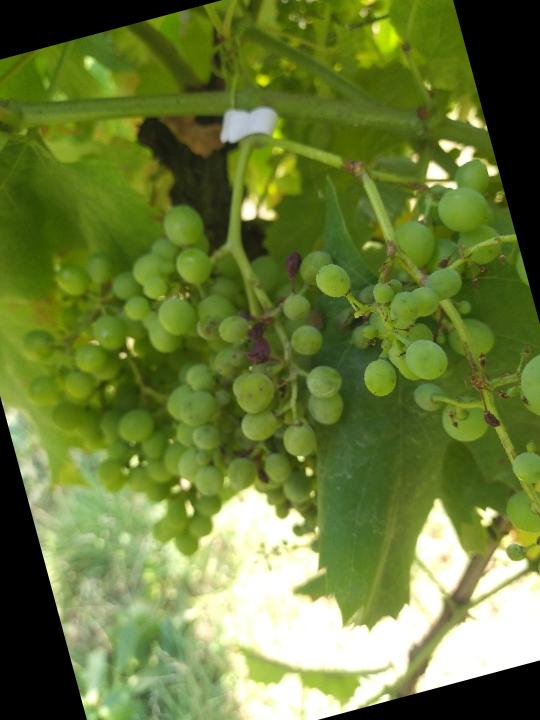grape: (103, 170, 393, 540)
